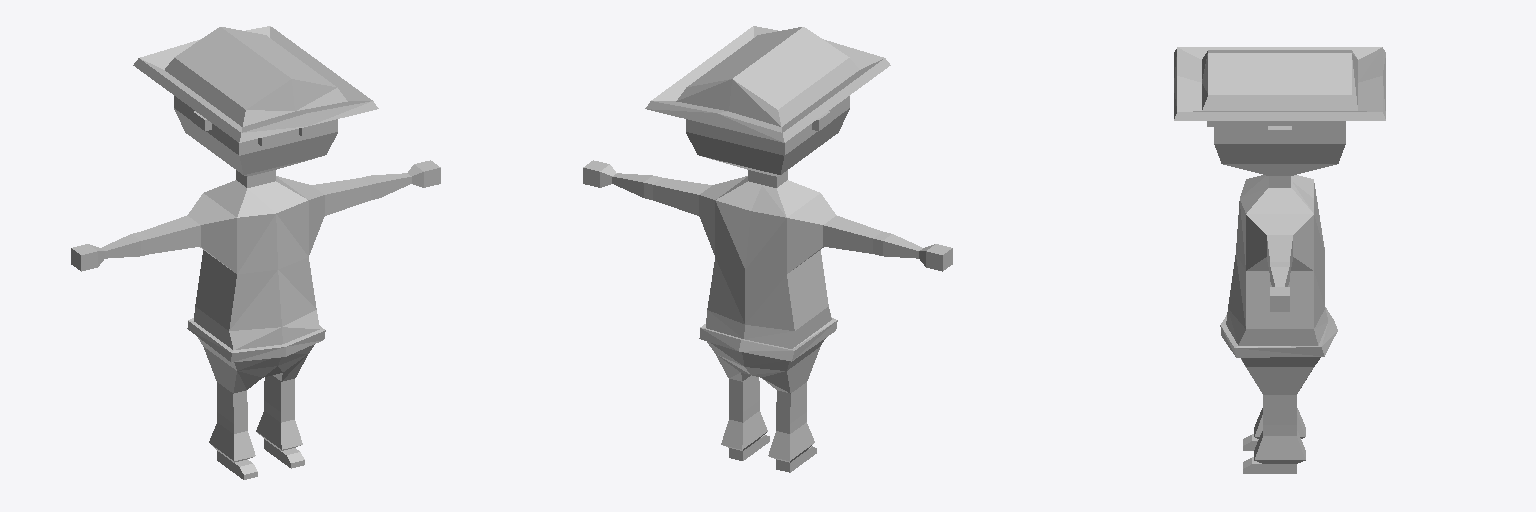
Rendered from Main Character.mtl.mtl.obj.
The picture shows the model from 3 angles: view 1: azimuth 30°, elevation 25°; view 2: azimuth 150°, elevation 25°; view 3: azimuth 270°, elevation 25°; orthographic projection.
Parts seen in each view (by area): view 1: hat_Cube, Person.001_Cube.001; view 2: hat_Cube, Person.001_Cube.001; view 3: hat_Cube, Person.001_Cube.001.
Boxes of the visible parts, <box> form: hat_Cube: <box>71,96,440,479</box>; Person.001_Cube.001: <box>133,26,378,142</box>; hat_Cube: <box>583,96,952,472</box>; Person.001_Cube.001: <box>645,26,890,142</box>; hat_Cube: <box>1207,121,1345,473</box>; Person.001_Cube.001: <box>1174,47,1385,120</box>.
Bounding box in the file's own units: 1.29 × 1.39 × 0.6613.